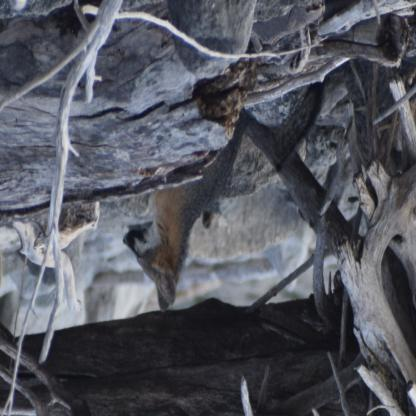zorro: (122, 61, 346, 317)
